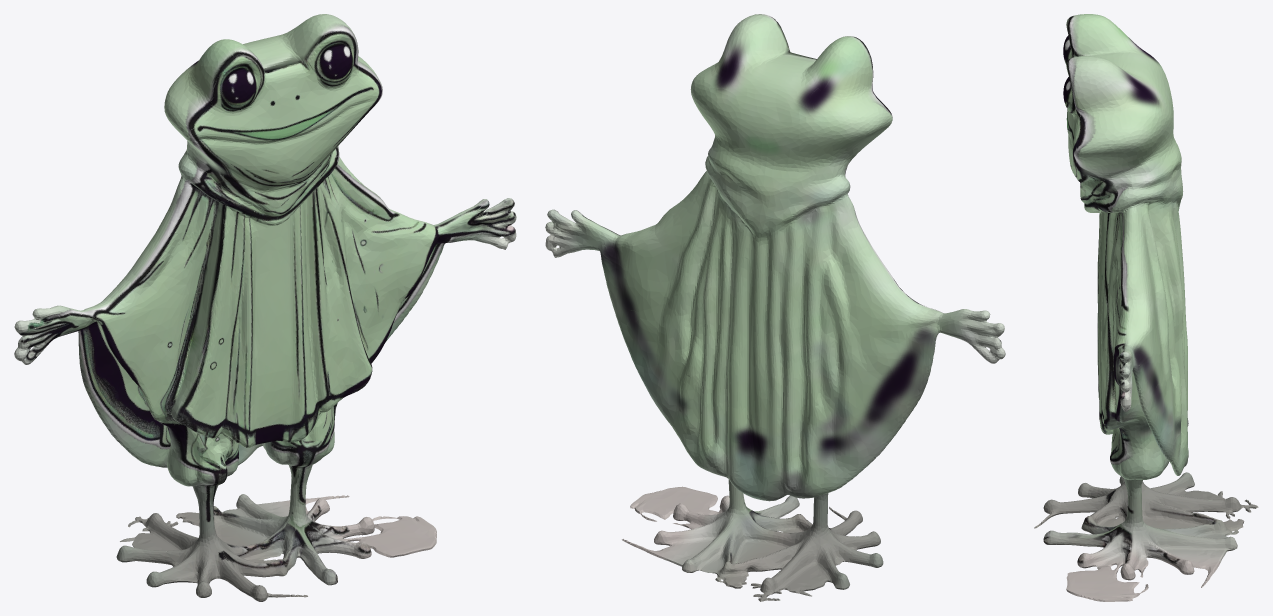
The model's file is bogling_townsperson_local.glb.
The picture shows the model from 3 angles, left to right: view 1: azimuth 30°, elevation 25°; view 2: azimuth 150°, elevation 25°; view 3: azimuth 270°, elevation 25°; orthographic projection. The views are drawn at different scales.
Parts seen in each view (by area): view 1: geometry_0; view 2: geometry_0; view 3: geometry_0.
Boxes of the visible parts, x1,y1,x2,y2 form: geometry_0: [14, 14, 516, 601]; geometry_0: [545, 14, 1005, 601]; geometry_0: [1034, 14, 1258, 601].
Bounding box in the file's own units: 1.25 × 1.3 × 0.5367.
Materials: 1 (1 with a texture image).
